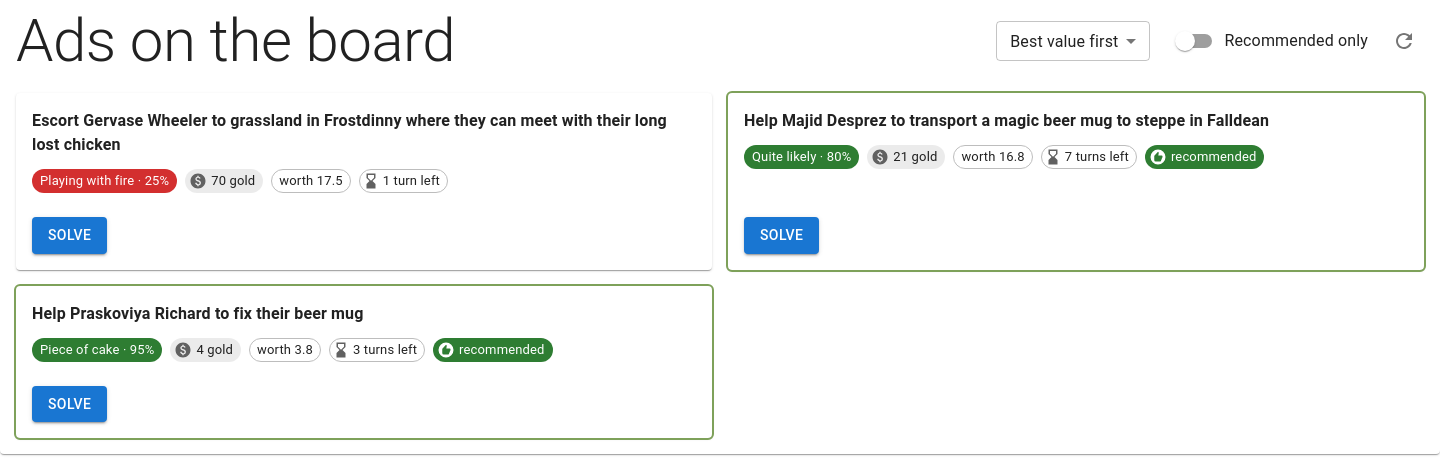
Test case: AdBoard › adBoardRecommendedOnlyHidesRiskyAds
Click the switch labelled "Recommended only": (1272, 41) [1175,31,1368,51]
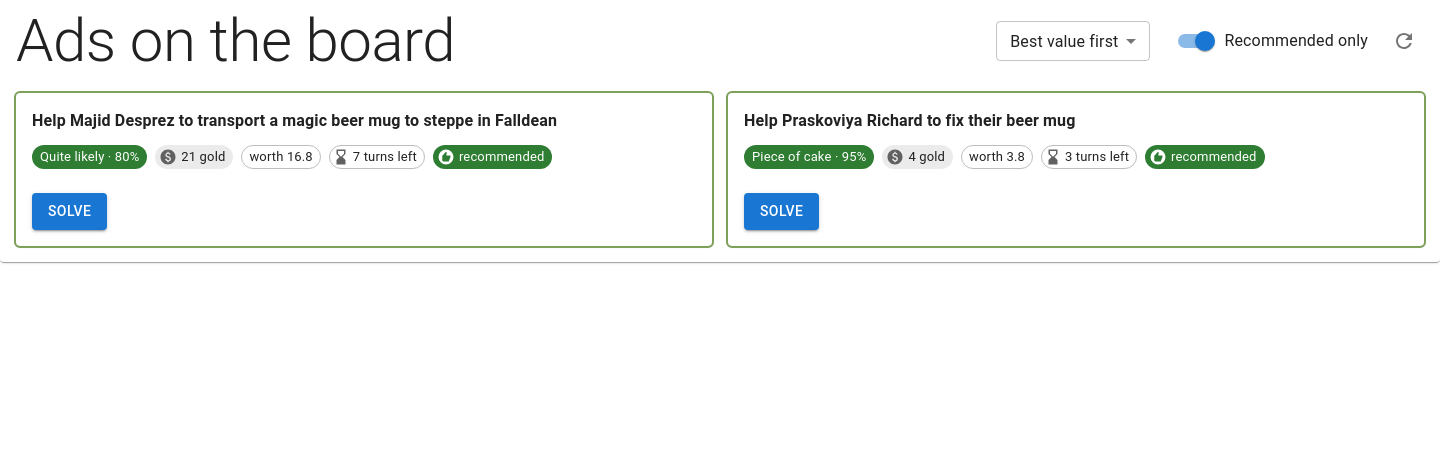
Result: the text "Escort Gervase Wheeler to grassland in Frostdinny where they can meet with their long lost chicken" is gone
